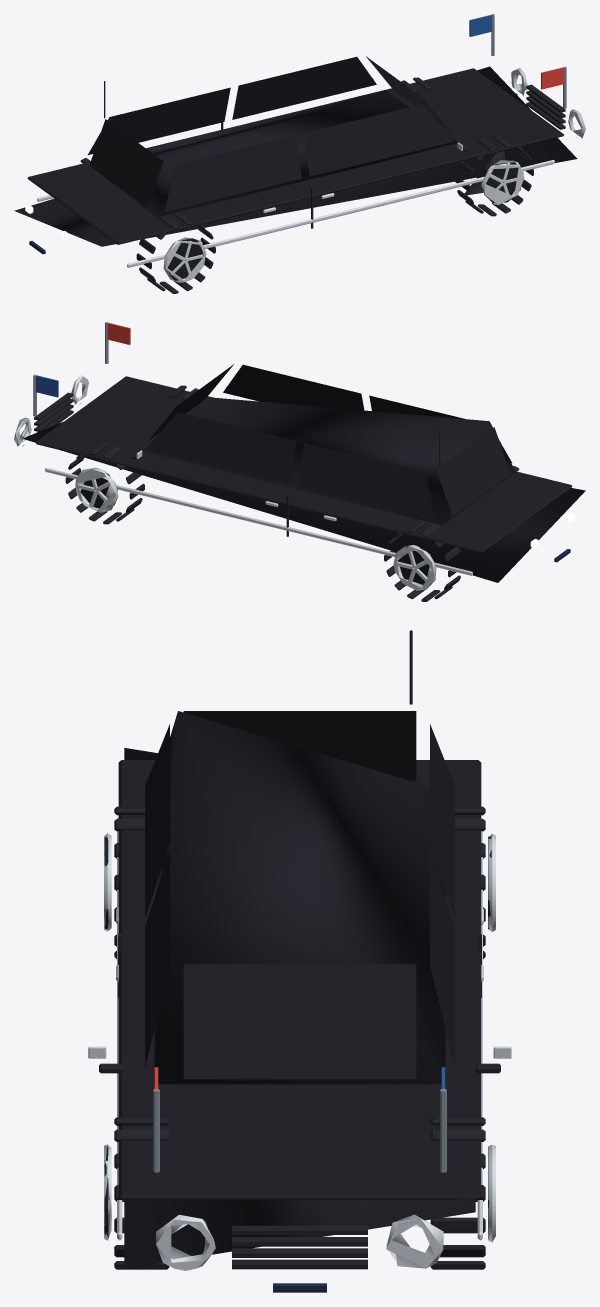
File: mayor_limo.glb
The picture shows the model from 3 angles, top to bottom: view 1: azimuth 30°, elevation 25°; view 2: azimuth 150°, elevation 25°; view 3: azimuth 270°, elevation 25°; orthographic projection. The views are drawn at different scales.
Visible parts, largest first — view 1: mayor_limo; view 2: mayor_limo; view 3: mayor_limo.
Boxes of the visible parts, <box> form: mayor_limo: <box>14,14,585,293</box>; mayor_limo: <box>14,322,585,601</box>; mayor_limo: <box>88,630,511,1292</box>.
Bounding box in the file's own units: 6.68 × 1.95 × 2.36.
Materials: 1 (1 with a texture image).
